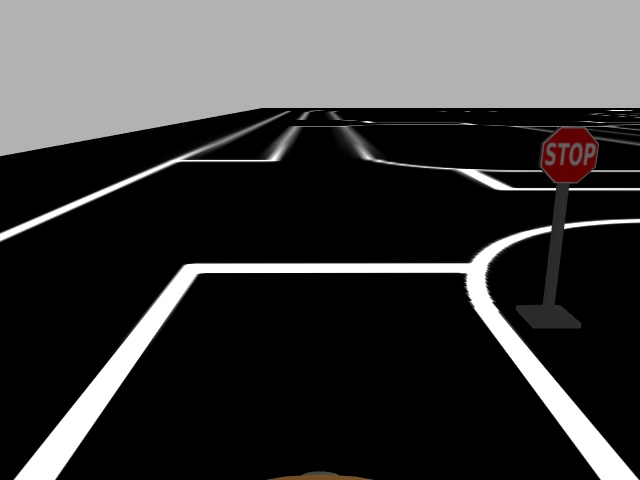stop: (537, 126, 601, 185)
